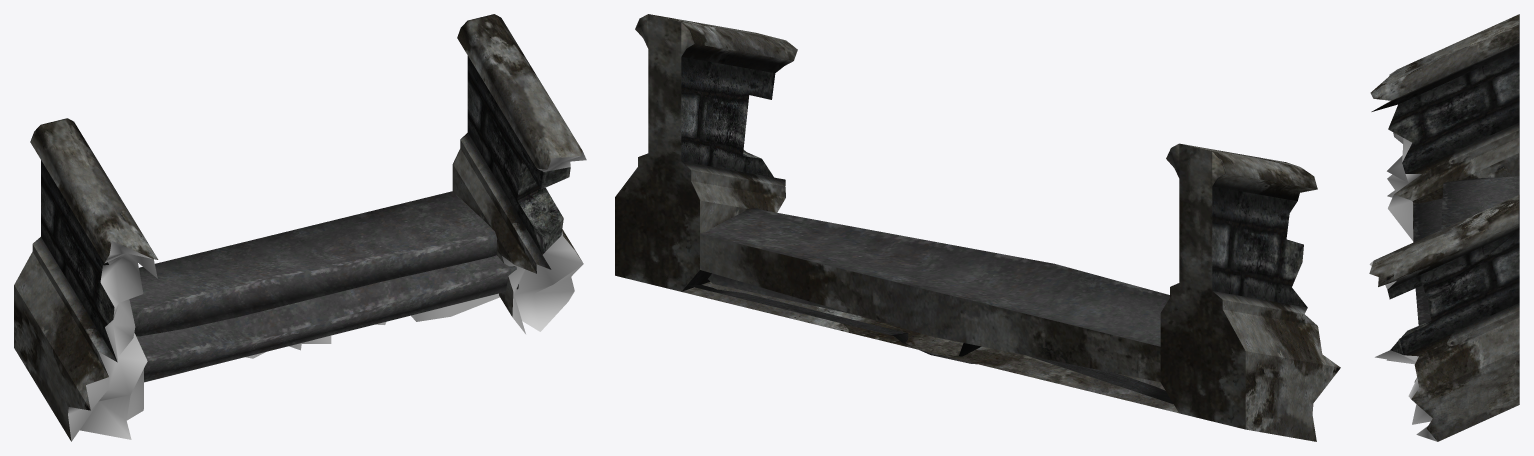
The model's file is default_broken01.dae.
3 views of the same model, side by side, from view 1: azimuth 30°, elevation 25°; view 2: azimuth 150°, elevation 25°; view 3: azimuth 270°, elevation 25° (orthographic). The views are drawn at different scales.
Visible parts, largest first — view 1: polySurface721, stair_broken03, polySurface719; view 2: polySurface721, stair_broken03; view 3: polySurface721, stair_broken03, polySurface719.
Part boxes in pixels (left/top/right/bottom): polySurface721: left=14, top=14, right=582, bottom=441; stair_broken03: left=129, top=191, right=518, bottom=382; polySurface719: left=68, top=151, right=586, bottom=441; polySurface721: left=615, top=14, right=1340, bottom=441; stair_broken03: left=700, top=208, right=1169, bottom=346; polySurface721: left=1369, top=14, right=1519, bottom=441; stair_broken03: left=1413, top=176, right=1519, bottom=325; polySurface719: left=1369, top=70, right=1437, bottom=441.
Bounding box in the file's own units: 4.75 × 2.46 × 1.41.
